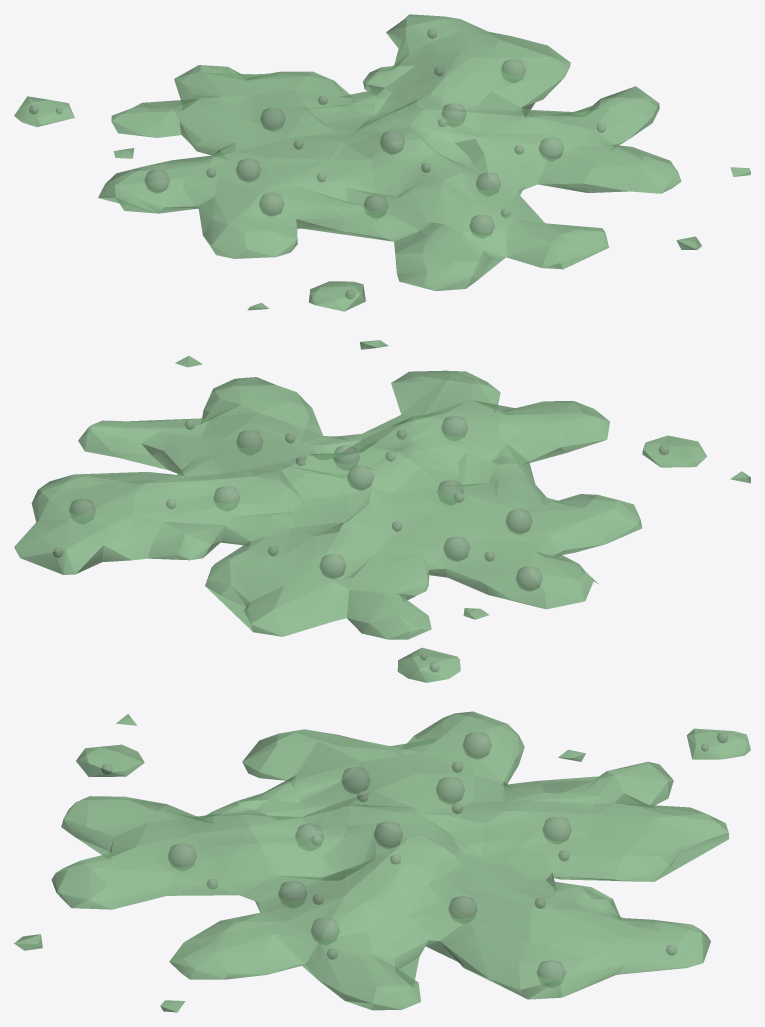
The model's file is forpainter.fbx.
The picture shows the model from 3 angles, top to bottom: view 1: azimuth 30°, elevation 25°; view 2: azimuth 150°, elevation 25°; view 3: azimuth 270°, elevation 25°; orthographic projection. The views are drawn at different scales.
Visible parts, largest first — view 1: pSphere26; view 2: pSphere26; view 3: pSphere26.
Part boxes in pixels (box(x1,y1,x2,y2)): pSphere26: box(14, 14, 750, 311); pSphere26: box(14, 340, 750, 682); pSphere26: box(14, 711, 750, 1012).
Size of the model in its own units: 122 by 12.44 by 129.
